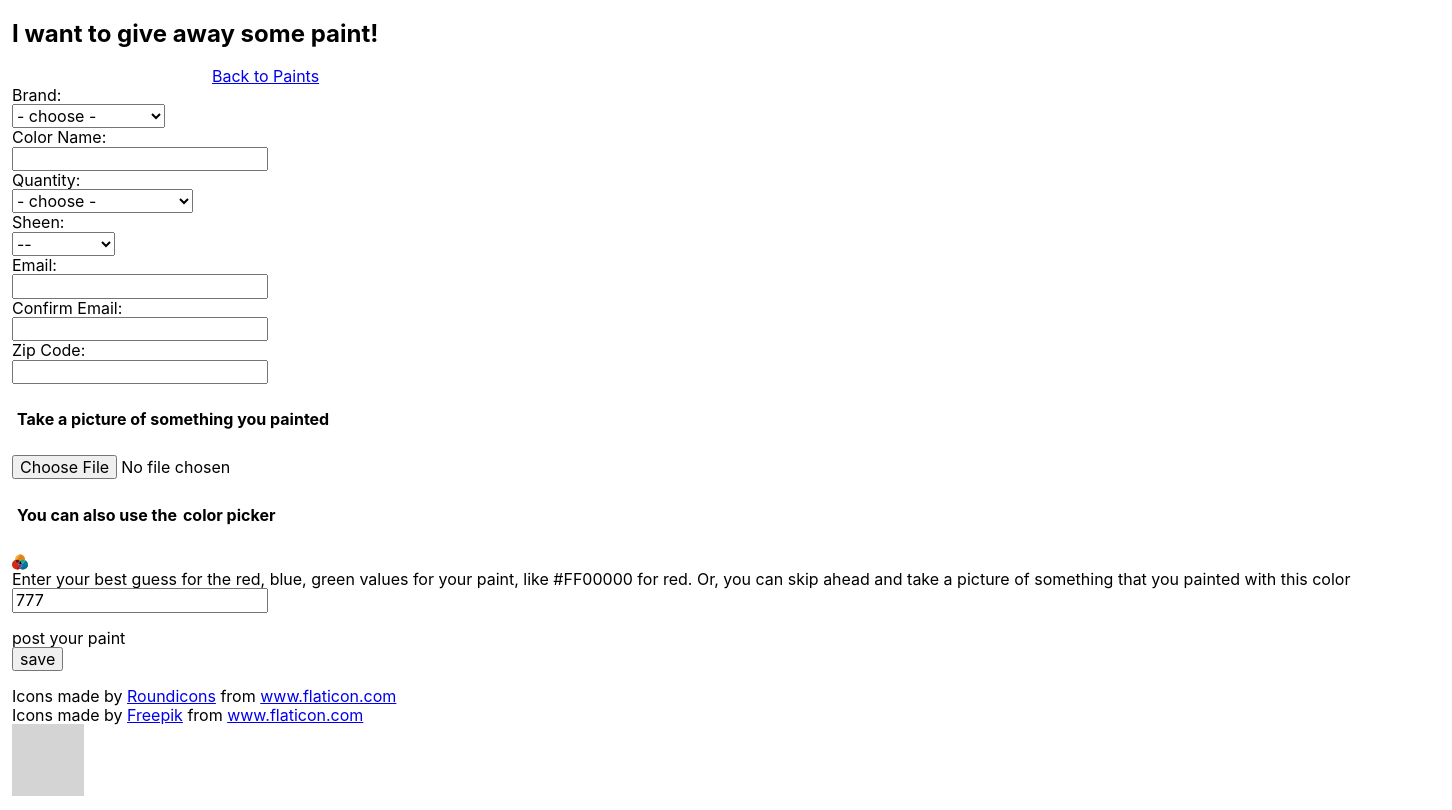
Test: GiveAwayPaint form › Error messages when a single field is missing › shows missing email Errors
Type "savage" into the field labelled "Color Name:" at [140, 159], box [12,147,268,171]
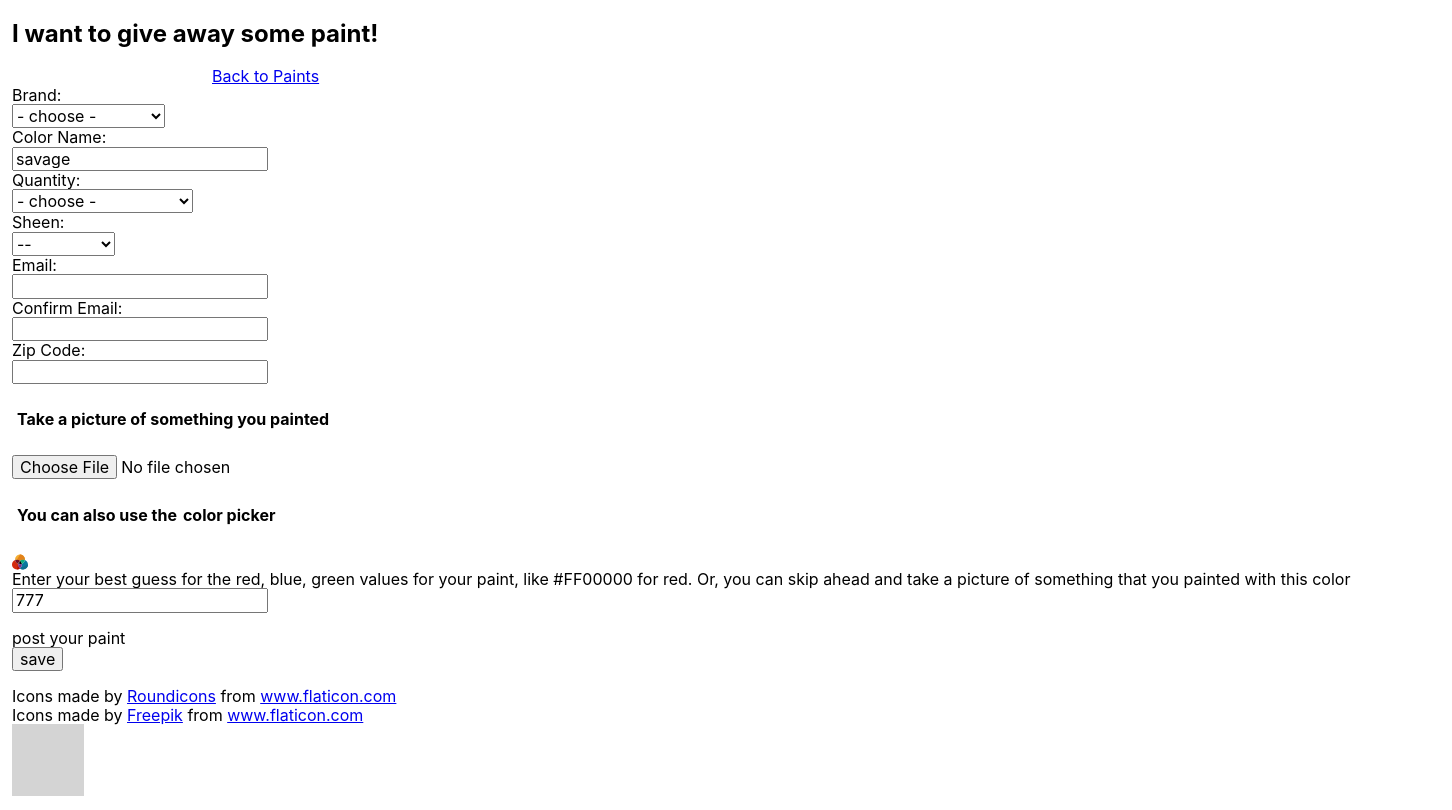
Select "less than a gallon" in the dropdown labelled "Quantity:" at [102, 201], box [12,189,193,213]
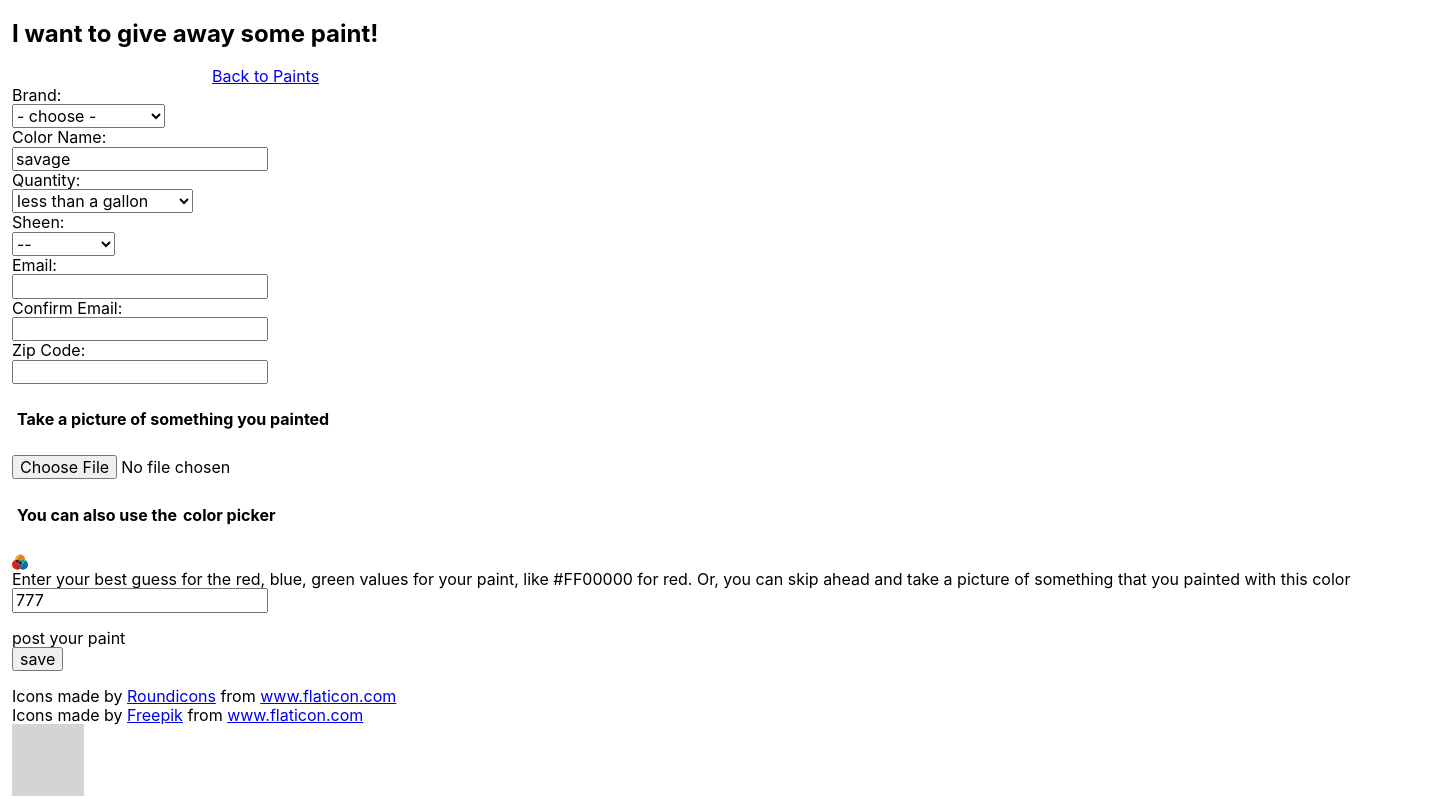
Select "Behr" in the dropdown labelled "Brand:" at [88, 116], box [12,104,165,128]
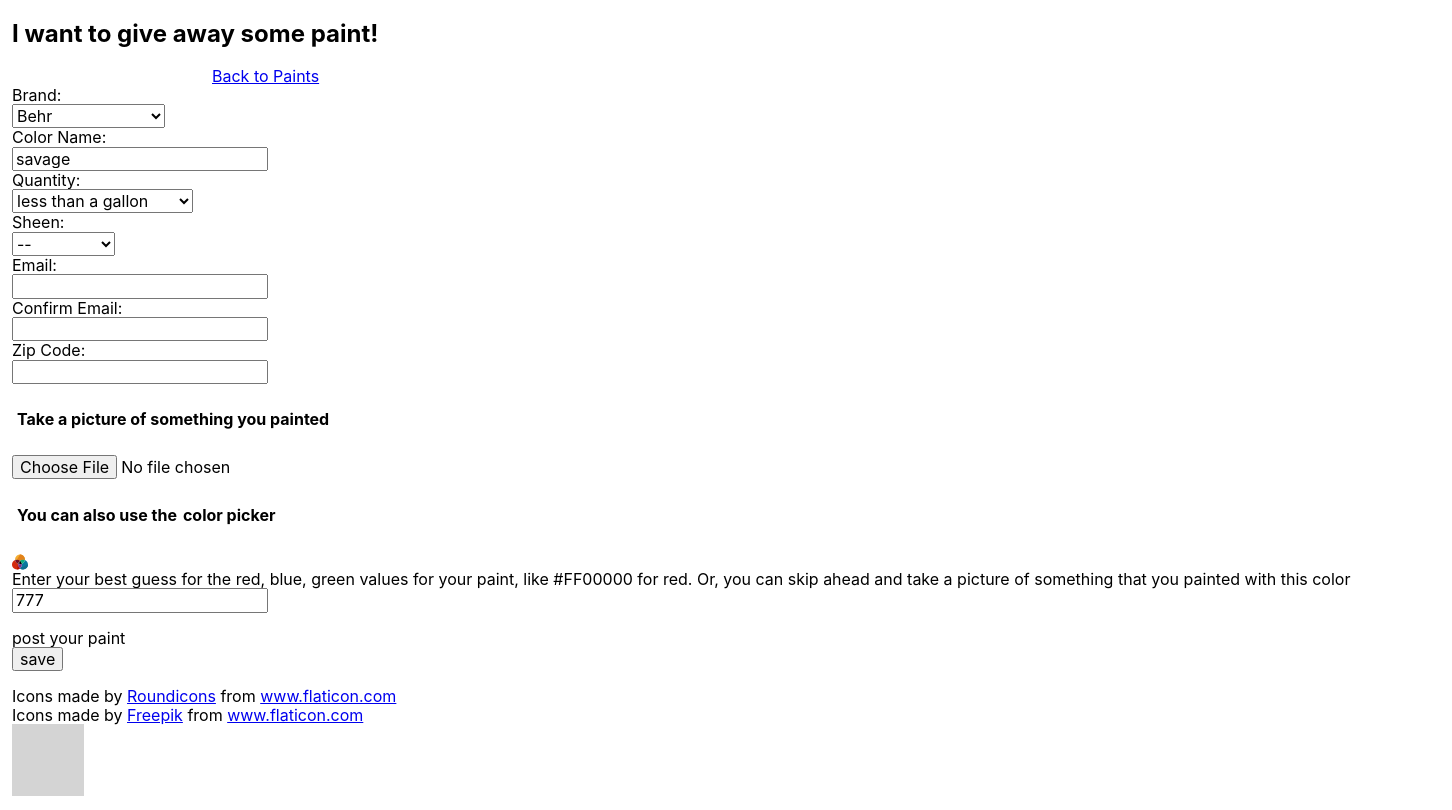
Type "someString" into the field labelled "Confirm Email:" at [140, 329], box [12,317,268,341]
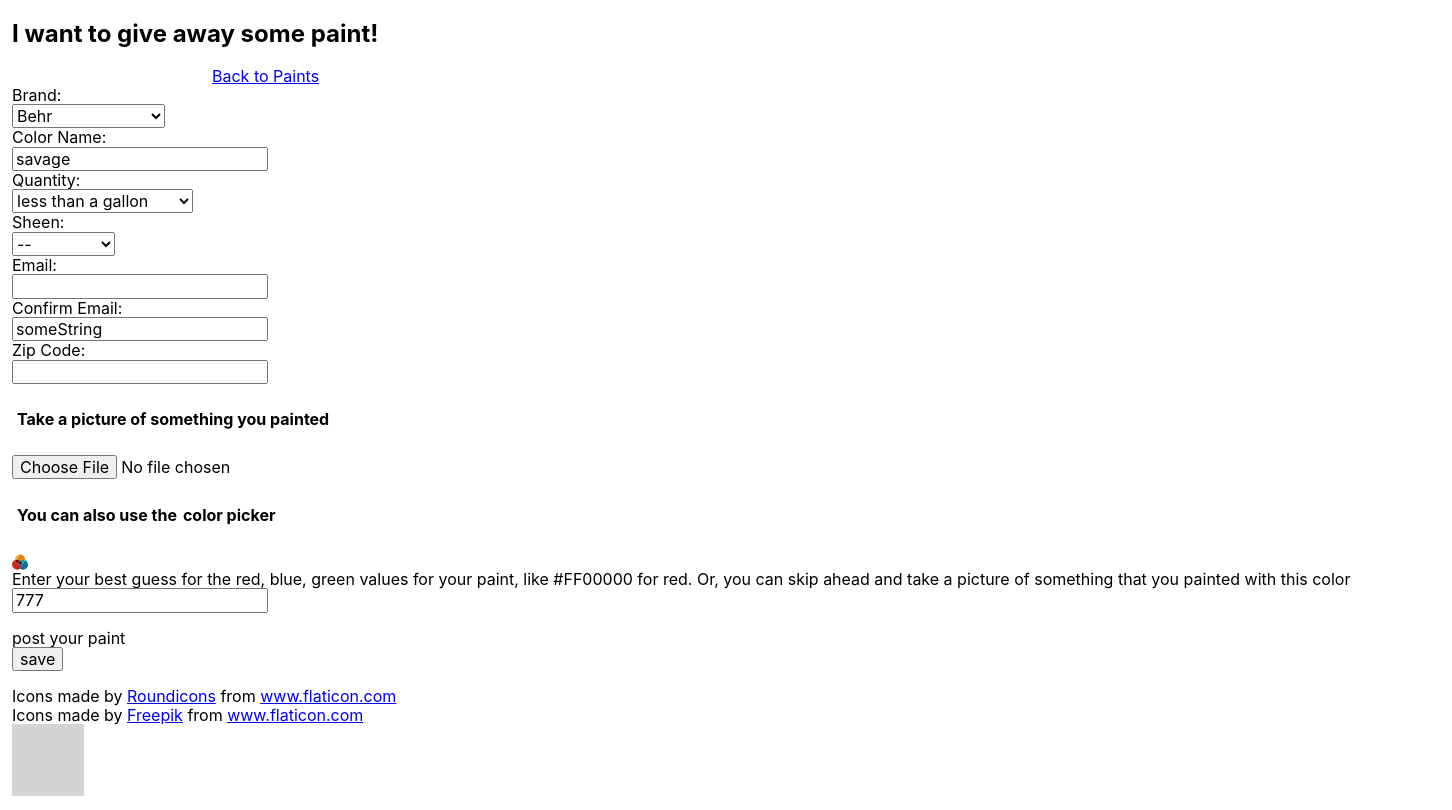
Type "99999" into the field labelled "Zip Code:" at [140, 372], box [12,360,268,384]
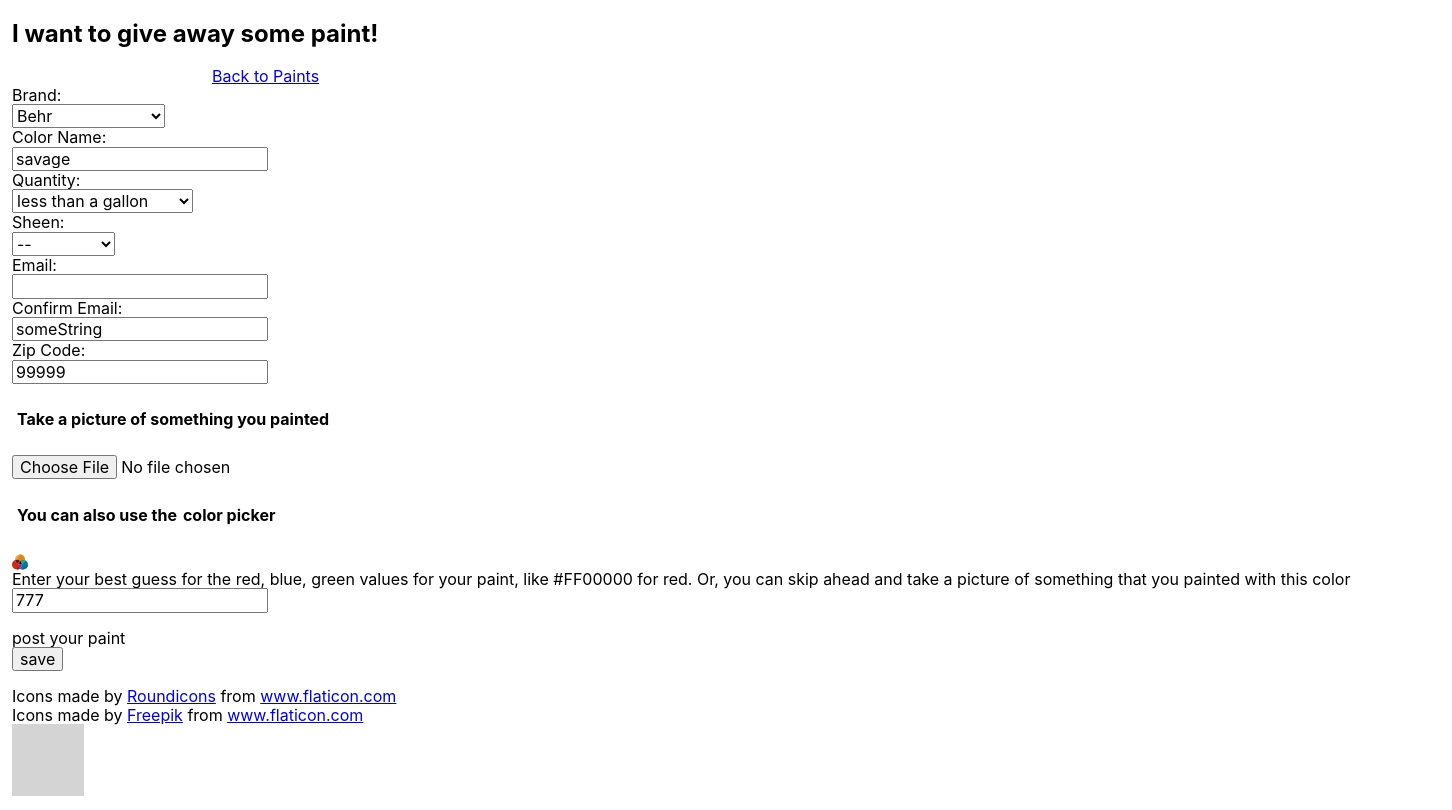
Submit the form
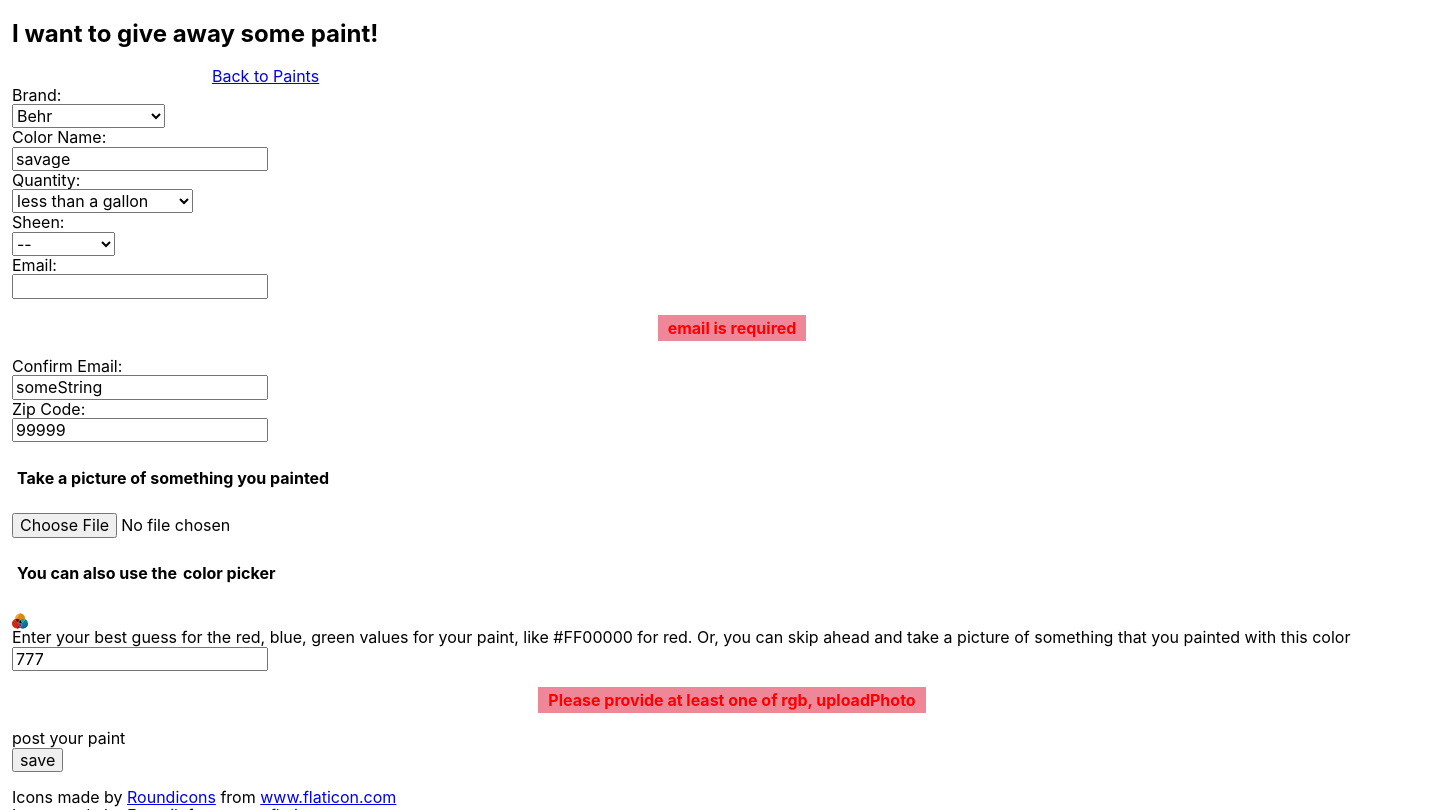
expect the text "email is required" is shown: met, box [658,314,806,341]
